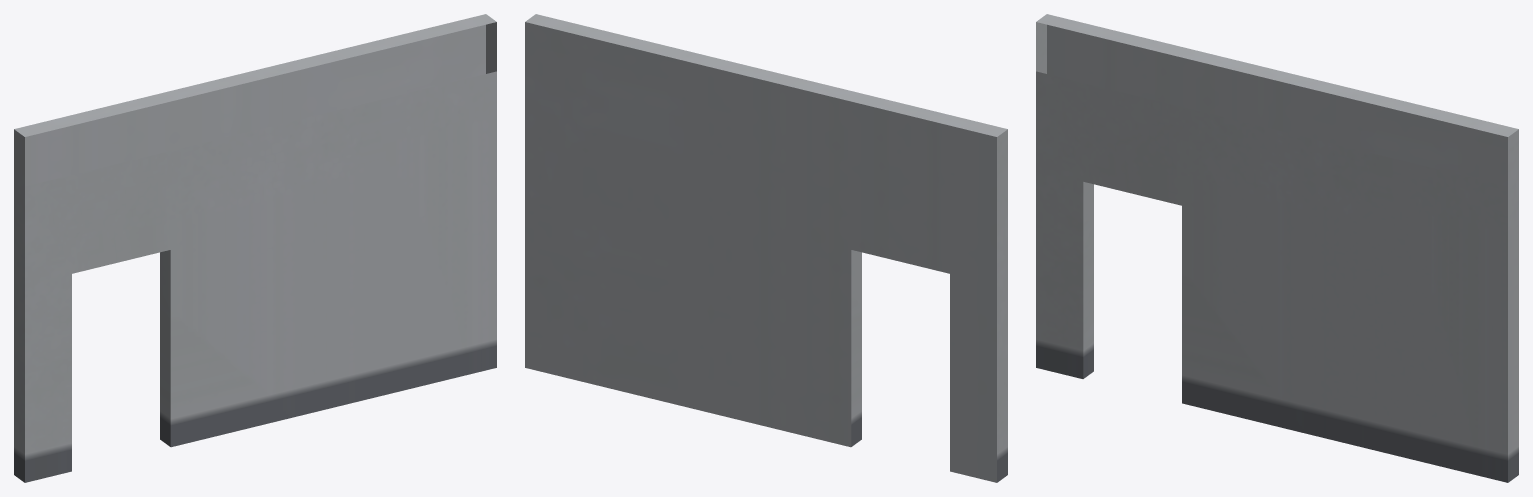
Rendered from BgMD_Tanihira_Wall_0101.fbx.
3 views of the same model, side by side, from view 1: azimuth 30°, elevation 25°; view 2: azimuth 150°, elevation 25°; view 3: azimuth 330°, elevation 25° (orthographic).
Visible parts, largest first — view 1: polySurface164; view 2: polySurface164; view 3: polySurface164.
Boxes of the visible parts, <box> form: polySurface164: <box>14,14,496,482</box>; polySurface164: <box>525,14,1007,482</box>; polySurface164: <box>1036,14,1518,482</box>.
Bounding box in the file's own units: 500 × 350 × 20.
